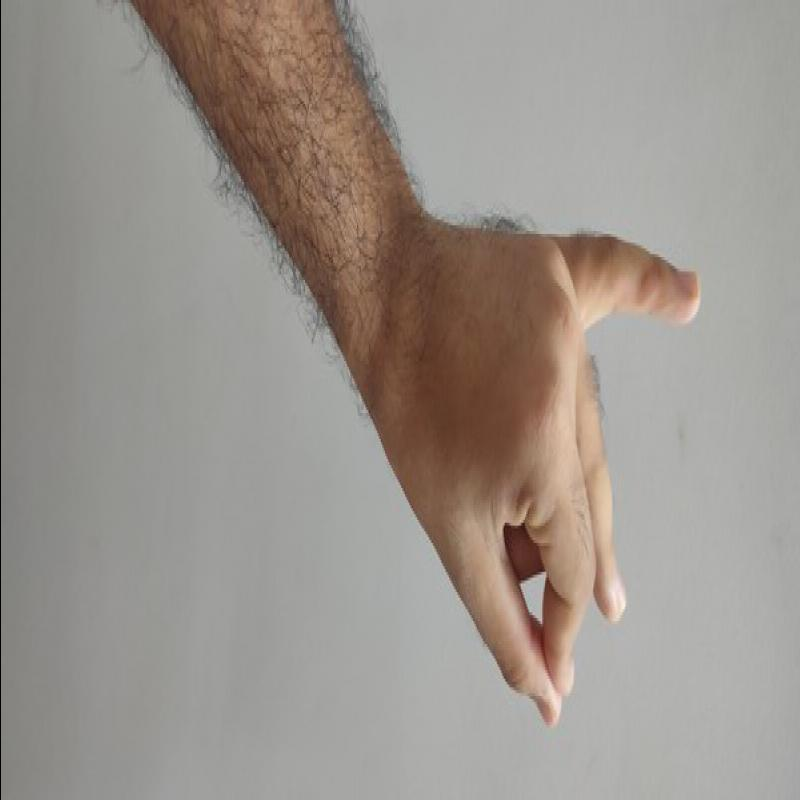Katakam: (352, 169, 746, 762)
